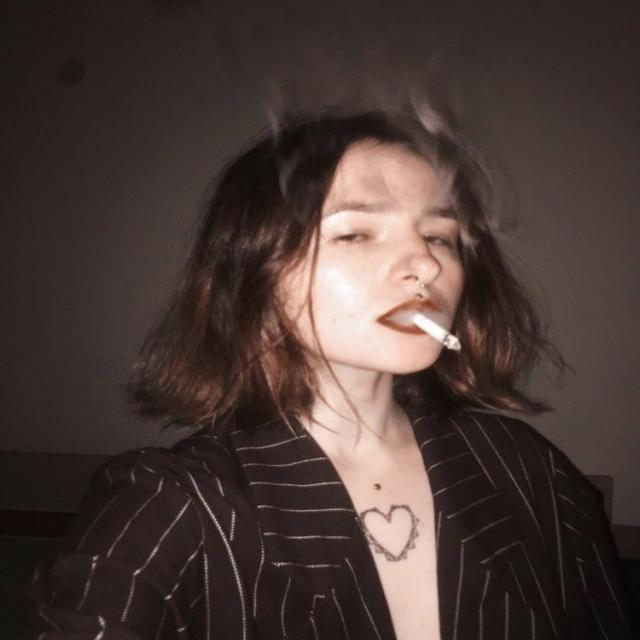smoke: (408, 304, 465, 355)
